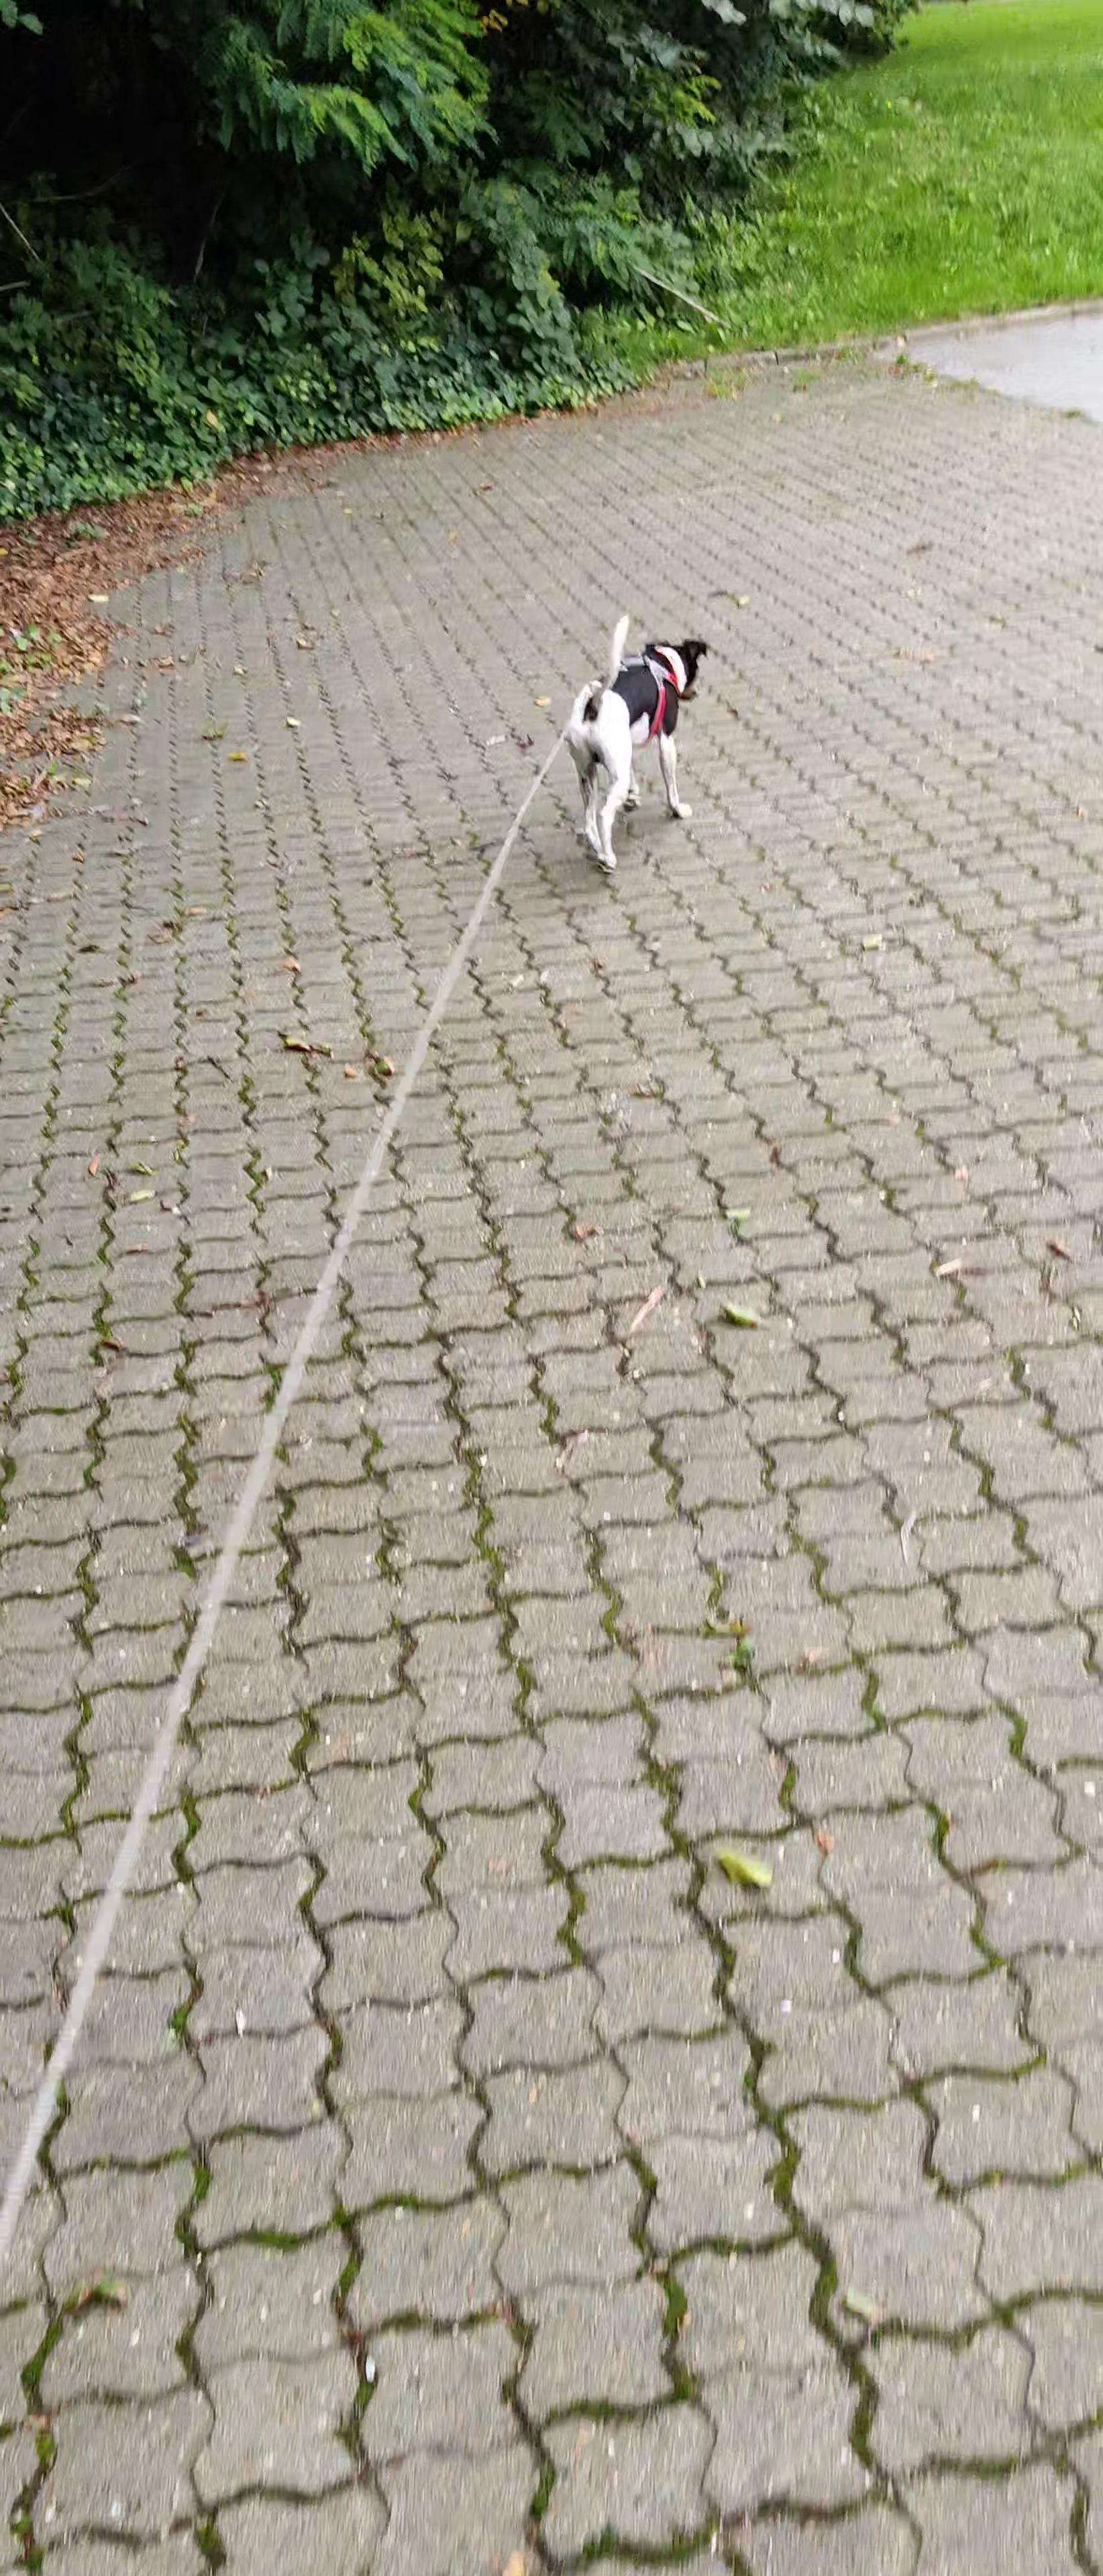Dog: (562, 611, 712, 877)
